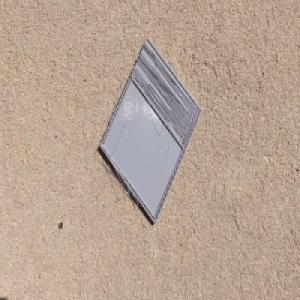PlasticPart: (98, 35, 203, 227)
